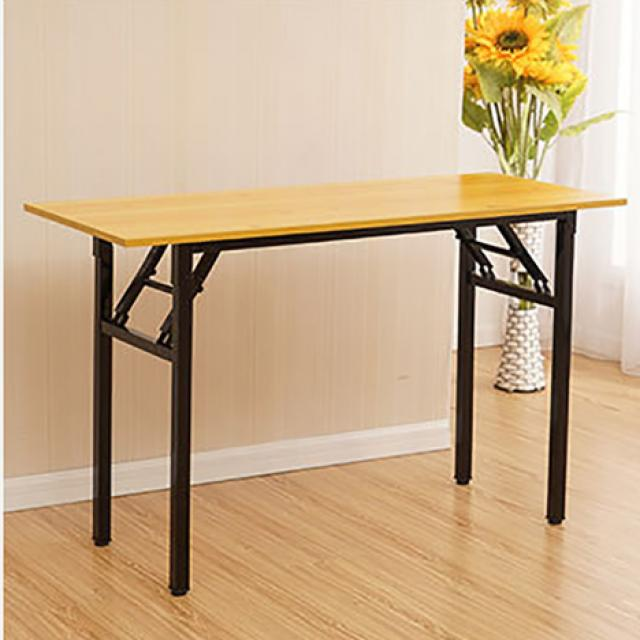table: (11, 156, 629, 599)
